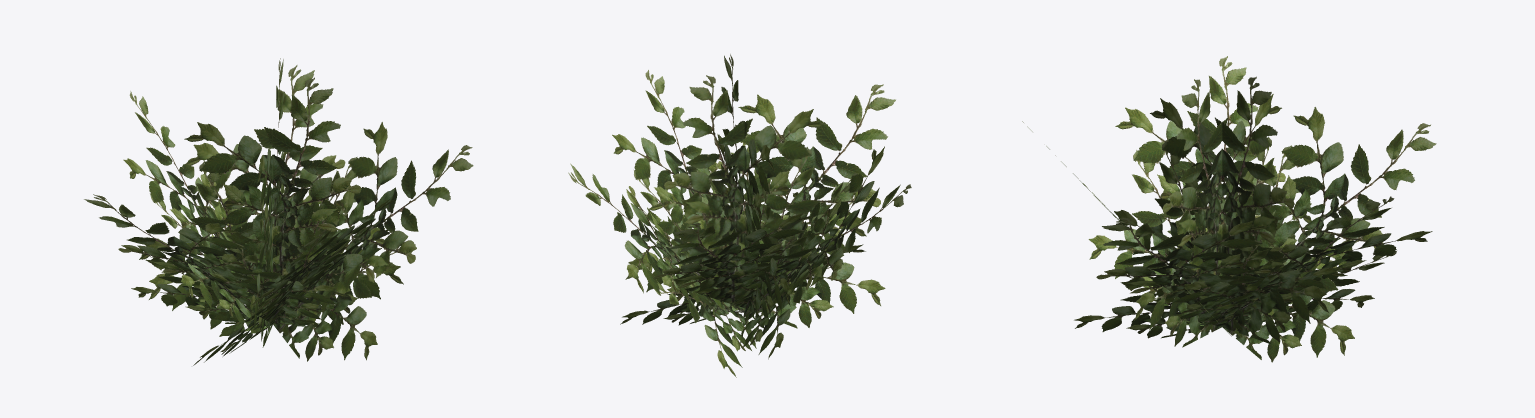
The model's file is Bush-1.fbx.
The picture shows the model from 3 angles, left to right: view 1: azimuth 30°, elevation 25°; view 2: azimuth 150°, elevation 25°; view 3: azimuth 270°, elevation 25°; orthographic projection. The views are drawn at different scales.
Visible parts, largest first — view 1: bush_01_cheap; view 2: bush_01_cheap; view 3: bush_01_cheap.
Boxes of the visible parts, left/top/right/bottom form: bush_01_cheap: left=84, top=58, right=473, bottom=365; bush_01_cheap: left=568, top=54, right=911, bottom=377; bush_01_cheap: left=1022, top=56, right=1436, bottom=362.
Bounding box in the file's own units: 6.21 × 4.74 × 7.14.
